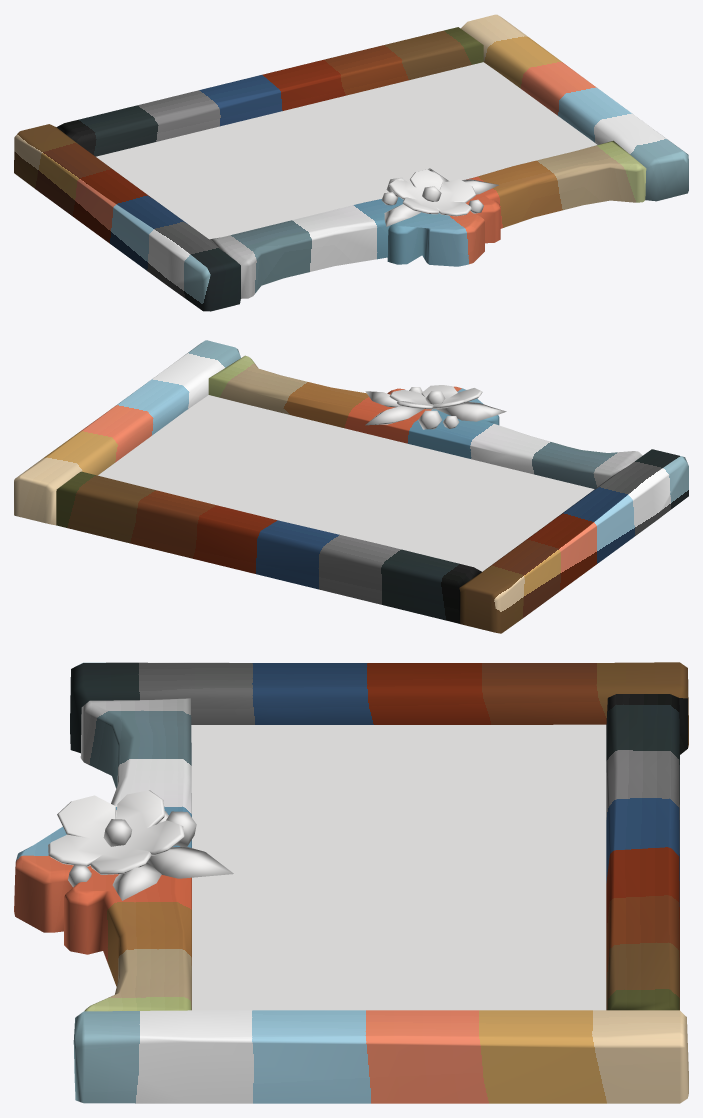
File: P_AP24Portrait.glb
3 views of the same model, one above another, from view 1: azimuth 30°, elevation 25°; view 2: azimuth 150°, elevation 25°; view 3: azimuth 270°, elevation 25° (orthographic). The views are drawn at different scales.
Visible parts, largest first — view 1: P_AP24Portrait; view 2: P_AP24Portrait; view 3: P_AP24Portrait.
Part boxes in pixels (x1,y1,x2,y2): P_AP24Portrait: (14, 14, 688, 311); P_AP24Portrait: (14, 340, 688, 633); P_AP24Portrait: (14, 662, 688, 1103).
Bounding box in the file's own units: 1.58 × 0.1875 × 1.18.
Materials: 1 (1 with a texture image).
